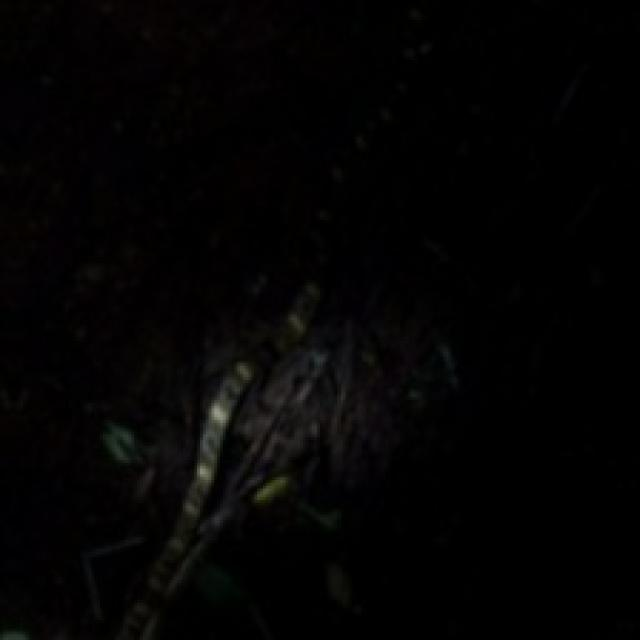dog-toothed cat snake: (117, 360, 254, 637)
